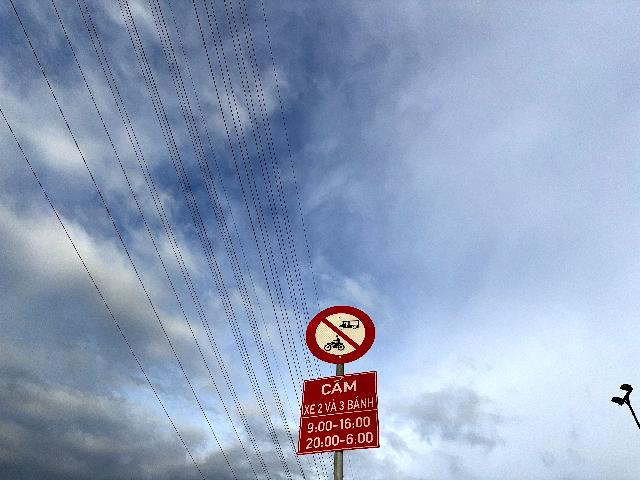cam-xe-2-banh-3-banh: (306, 305, 376, 363)
